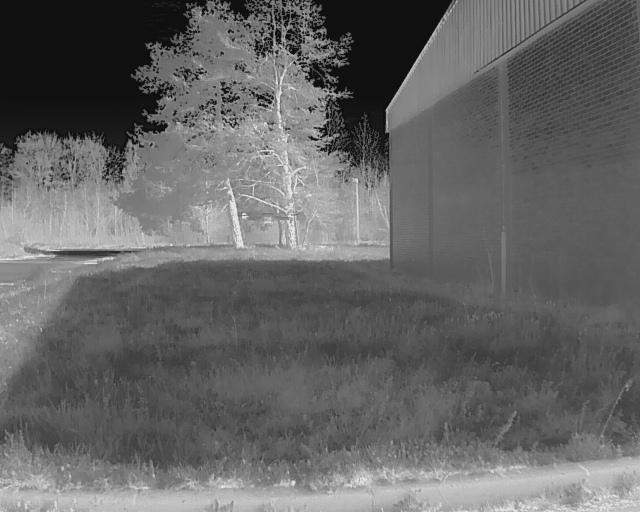drone: (233, 206, 299, 240)
